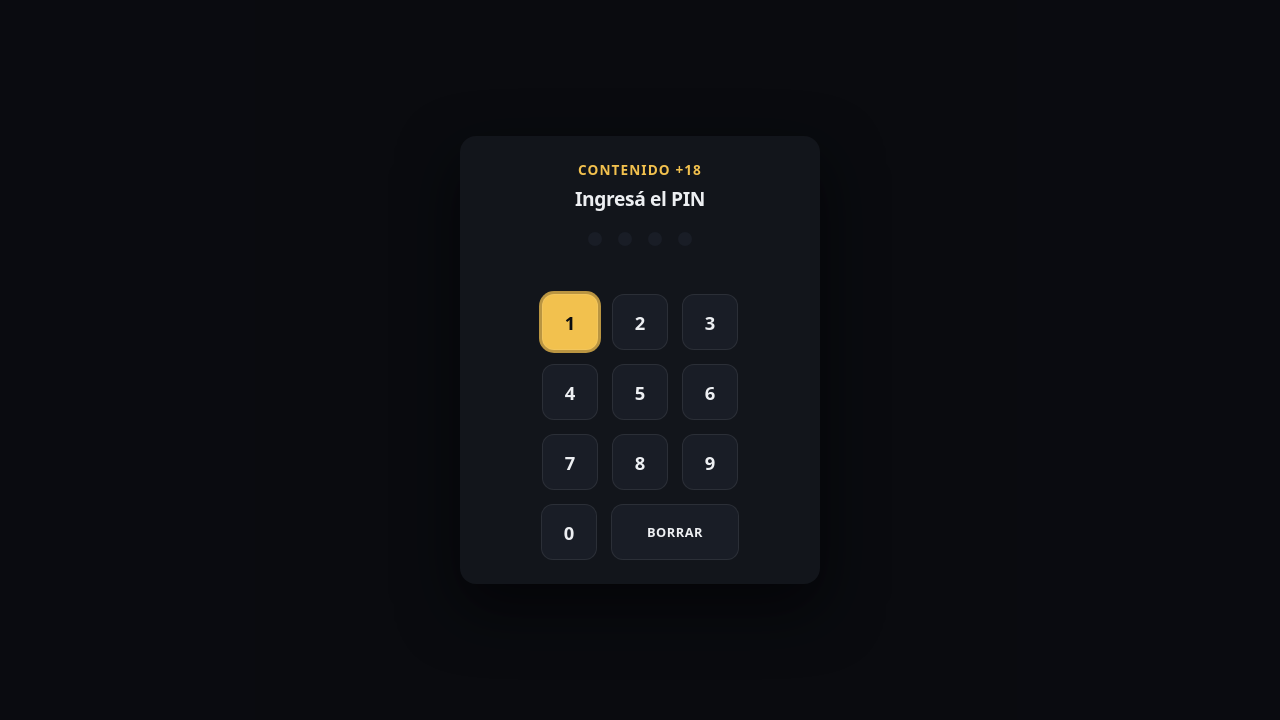
Test case: AdultPinOverlay › shows an error and clears the dots on a wrong PIN
The width and height of the screenshot is (1280, 720).
Click the button "1". click: click(570, 322)
box: [542, 294, 598, 350]
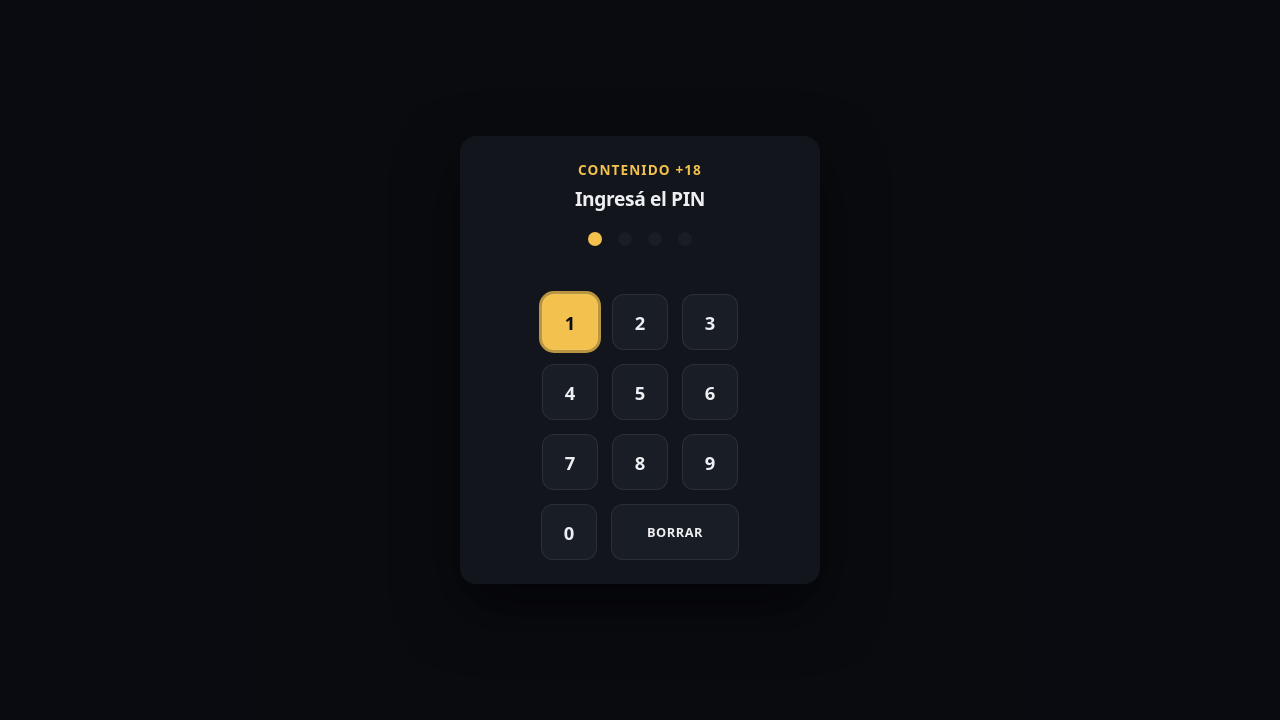
Click the button "1". click: click(570, 322)
box: [542, 294, 598, 350]
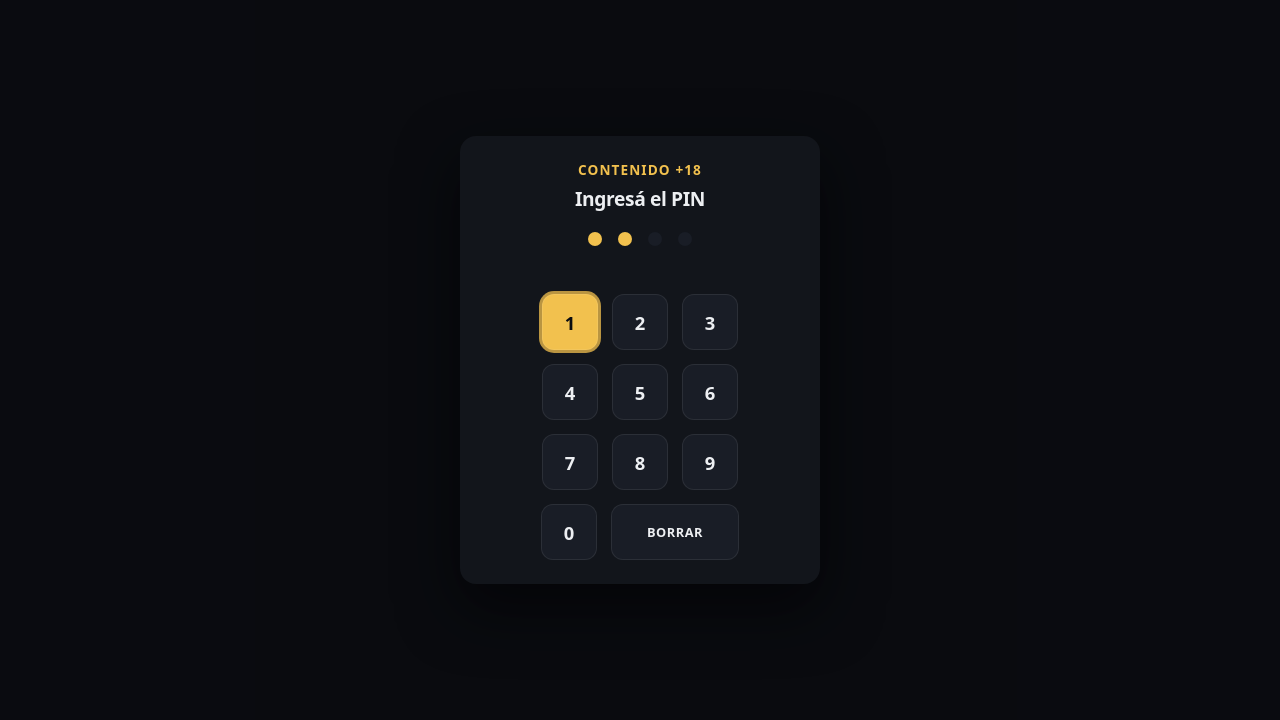
Click the button "1". click: click(570, 322)
box: [542, 294, 598, 350]
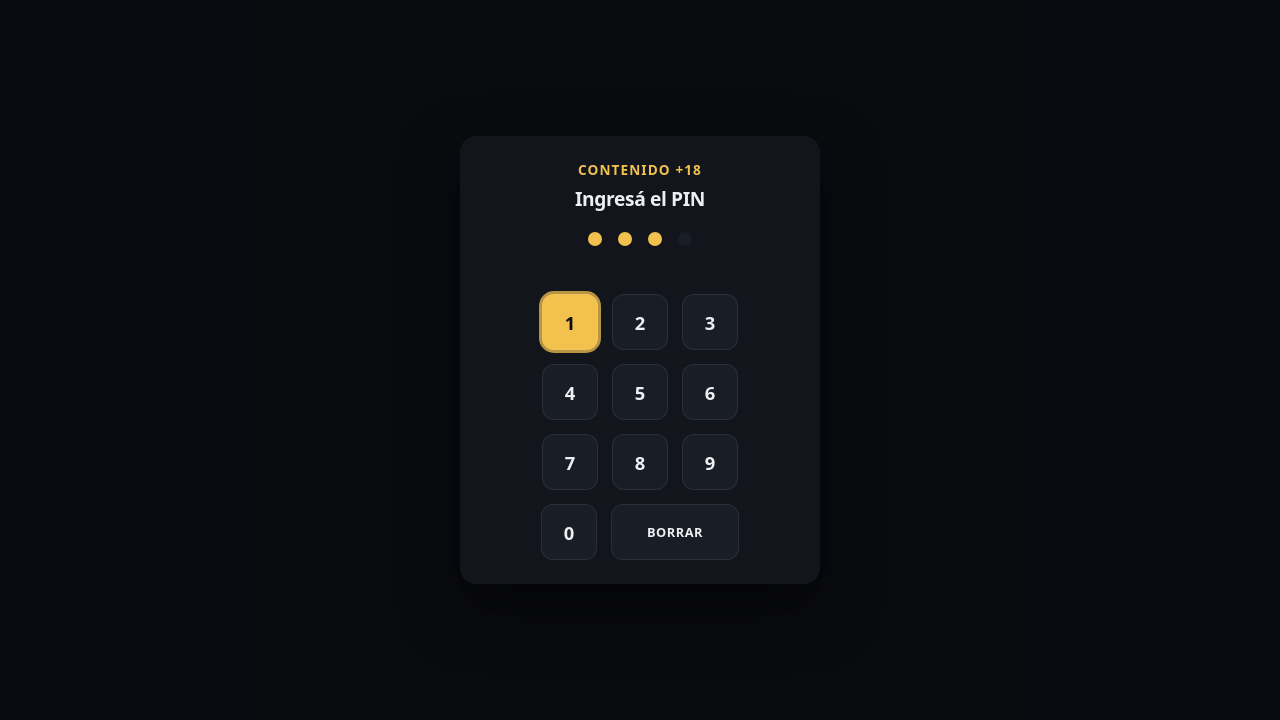
Click the button "1". click: click(570, 322)
box: [542, 294, 598, 350]
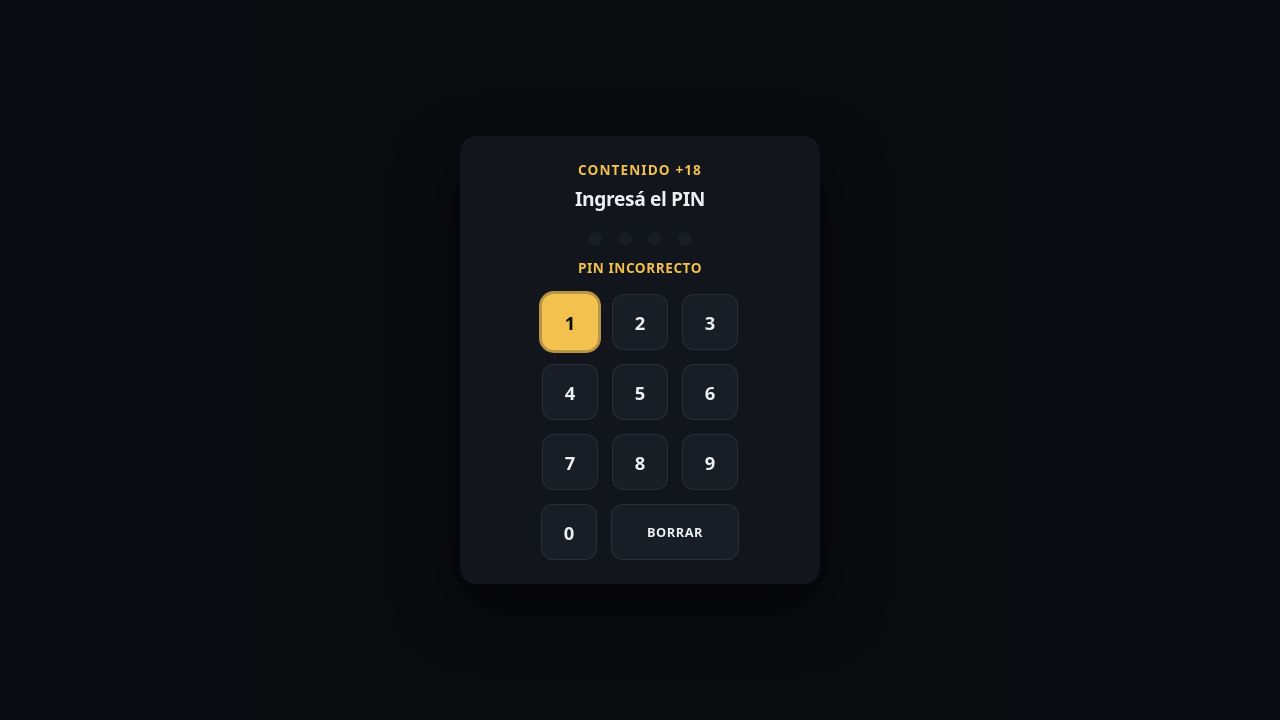
Expected: the text "PIN incorrecto" is shown, [578, 258, 702, 278]
